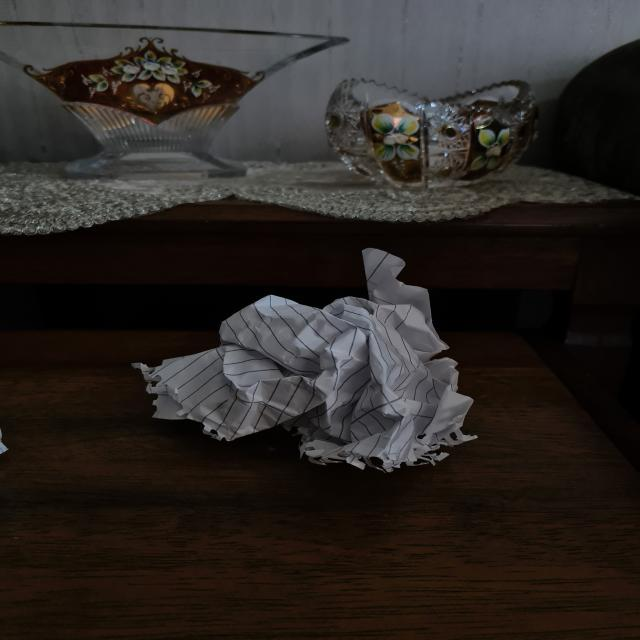Paper: (151, 240, 466, 470)
